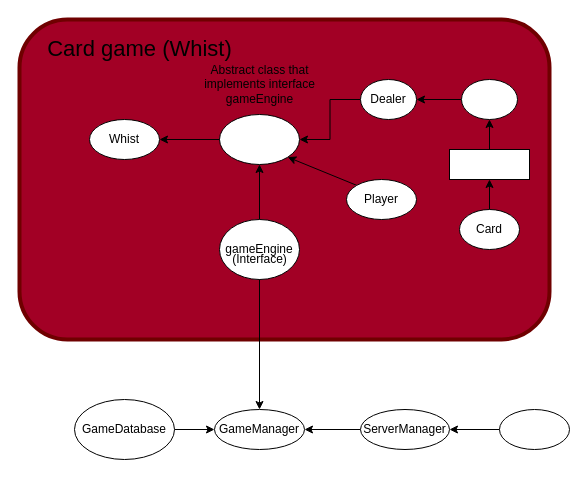
This 587x477 diagram has some shape labels left out. Each missing label, with the box of its shape:
CardGame: (218, 114, 300, 164)
Deck: (460, 78, 518, 120)
WS: (498, 408, 570, 450)
«interface» Card: (448, 148, 530, 180)
